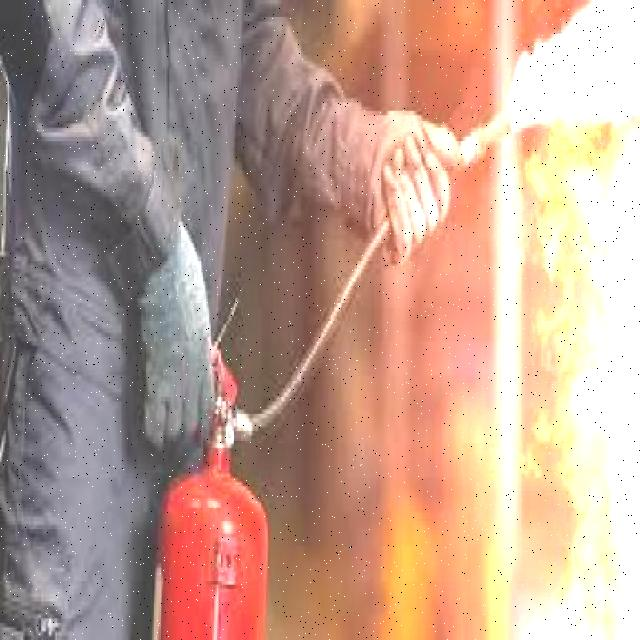Gloves: (348, 86, 462, 262), (132, 213, 214, 444)
